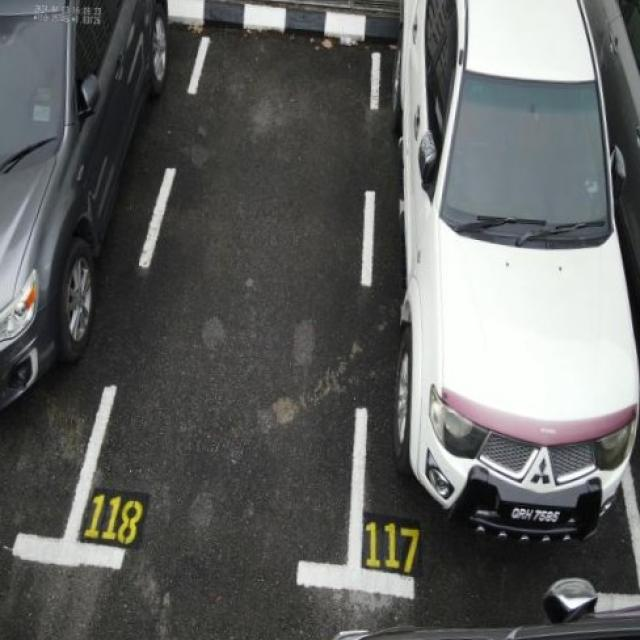Legalparking: (392, 0, 639, 539), (0, 0, 167, 409)
